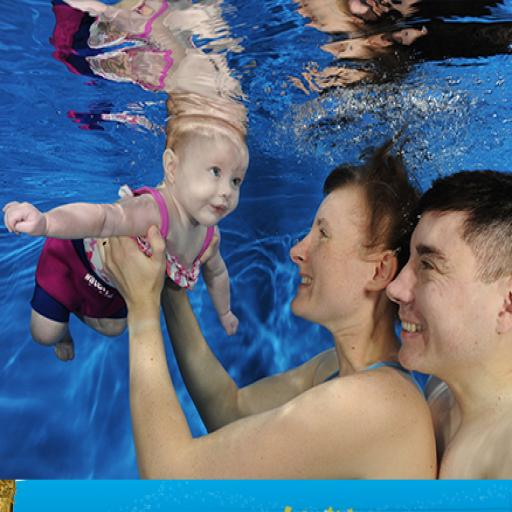swimming: (97, 140, 441, 480), (1, 92, 253, 364), (386, 167, 511, 480)
